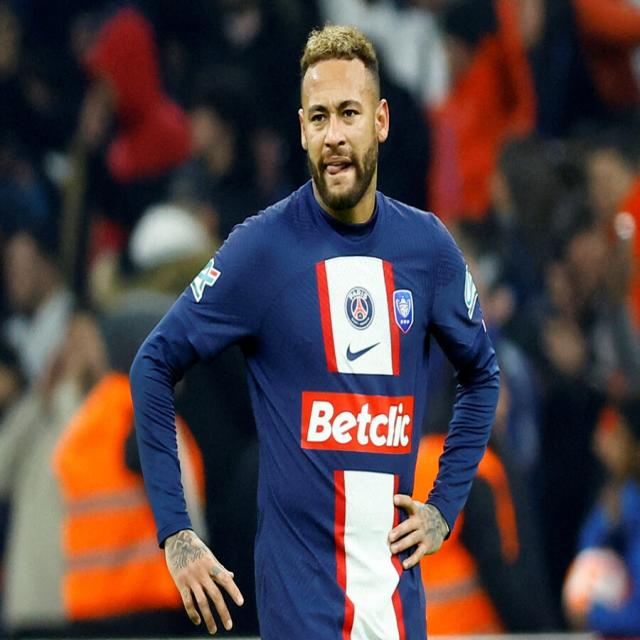neymar: (291, 32, 393, 212)
